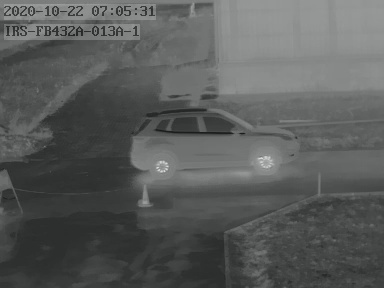vehicle: (129, 106, 298, 182)
